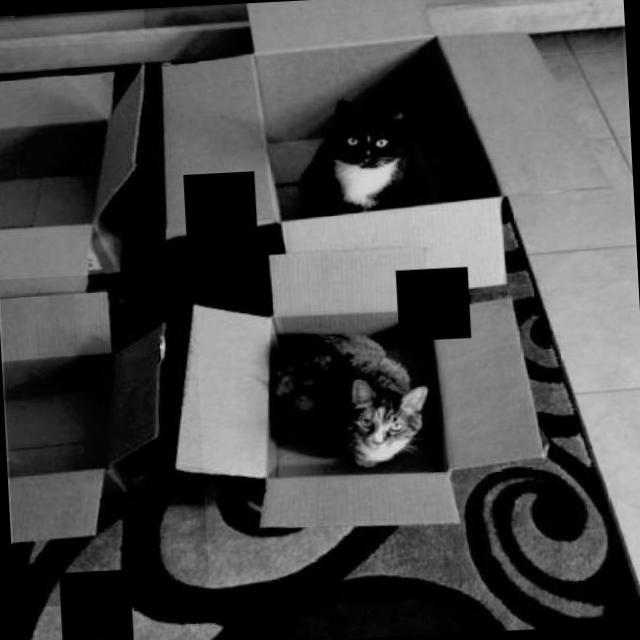box: (158, 207, 562, 598), (143, 0, 636, 305), (0, 269, 210, 608), (0, 39, 189, 296)
